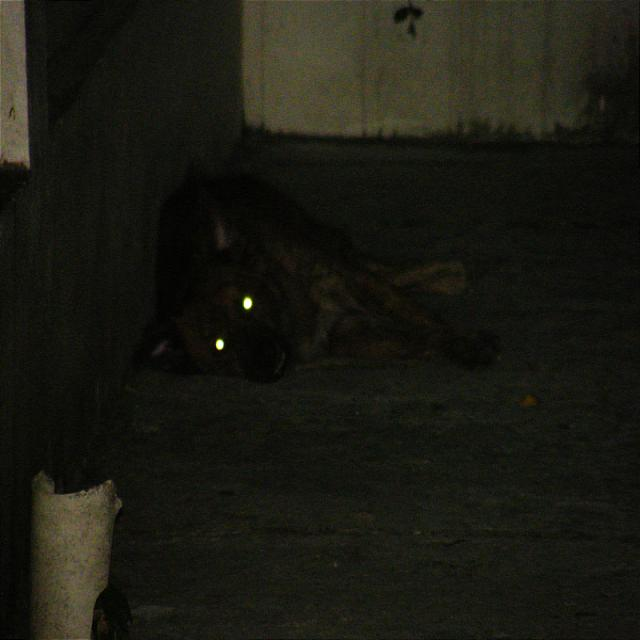Dog: (106, 144, 503, 434)
